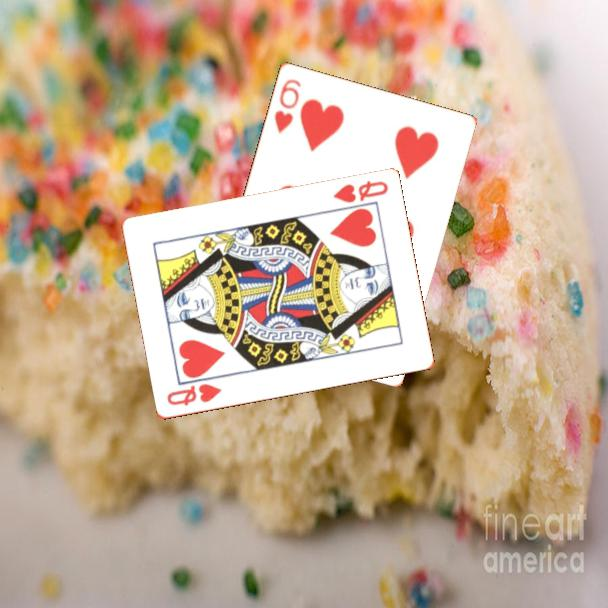h06: (270, 75, 304, 136)
h12: (163, 380, 224, 409), (329, 178, 391, 206)
